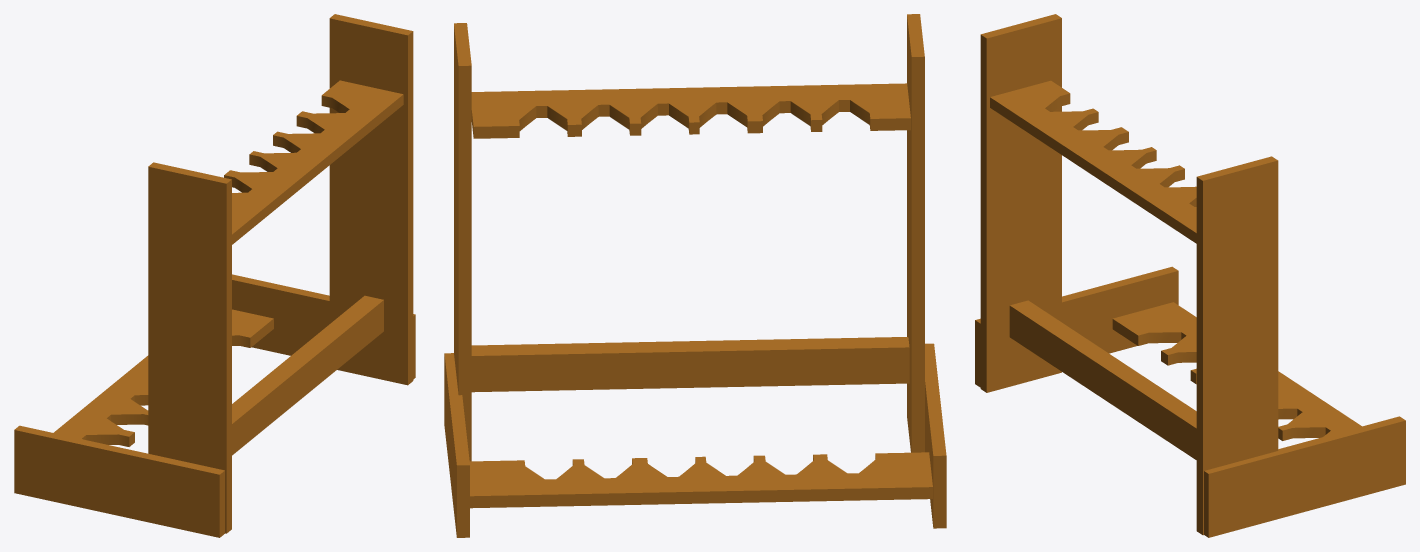
Rendered from sword-stand-by-shantoan-F4e7plALHJ.glb.
3 renders of one model, left to right at view 1: azimuth 30°, elevation 25°; view 2: azimuth 150°, elevation 25°; view 3: azimuth 270°, elevation 25°, orthographic. The views are drawn at different scales.
Visible parts, largest first — view 1: Cube_11, Cube_14, Cube_10, Cube_13_2, Cube_12, Boole_1, Cube_13, Cylinder_9; view 2: Cube_12, Boole_1, Cube_13_2, Cube_11, Cube_14, Cylinder_9, Cube_13, Cube_10; view 3: Cube_14, Cube_11, Cube_13, Cube_13_2, Cube_12, Boole_1, Cube_10, Cylinder_9.
Boxes of the visible parts, box(x1,y1,x2,y2) form: Cube_11: box(148, 162, 231, 533); Cube_14: box(329, 14, 413, 385); Cube_10: box(14, 425, 224, 537); Cube_13_2: box(224, 80, 403, 244); Cube_12: box(232, 295, 383, 455); Boole_1: box(53, 309, 273, 446); Cube_13: box(232, 274, 415, 379); Cylinder_9: box(224, 95, 349, 192); Cube_12: box(471, 337, 909, 392); Boole_1: box(469, 452, 932, 508); Cube_13_2: box(471, 83, 910, 138); Cube_11: box(907, 14, 924, 452); Cube_14: box(454, 23, 471, 461); Cylinder_9: box(519, 100, 870, 136); Cube_13: box(444, 353, 469, 537); Cube_10: box(925, 343, 946, 528); Cube_14: box(1196, 156, 1278, 535); Cube_11: box(980, 14, 1061, 392); Cube_13: box(1204, 416, 1405, 537); Cube_13_2: box(990, 80, 1196, 243); Cube_12: box(1009, 300, 1196, 459); Boole_1: box(1112, 302, 1361, 440); Cube_10: box(975, 266, 1178, 387); Cylinder_9: box(1045, 93, 1196, 206).
Size of the model in its own units: 2.13 by 1.7 by 1.87.
